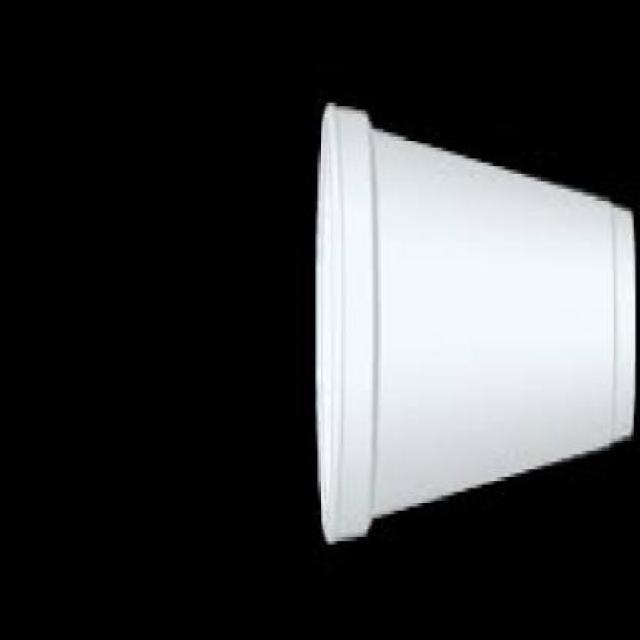PAPER: (313, 94, 638, 535)
